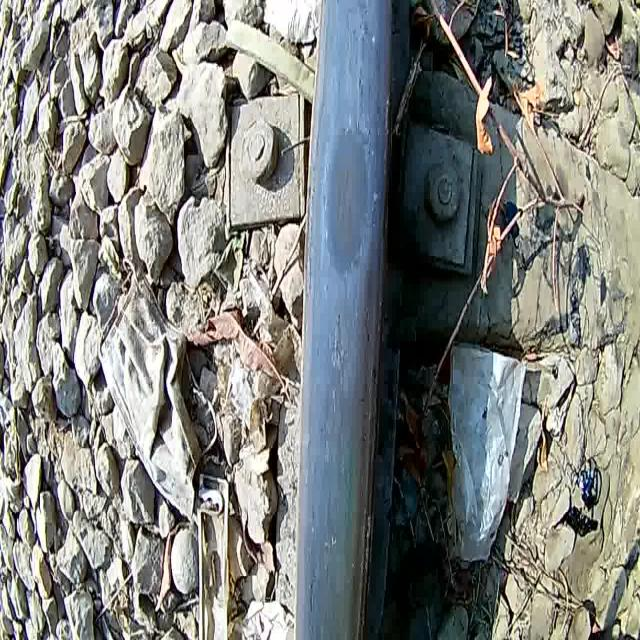Squats: (273, 0, 416, 640)
